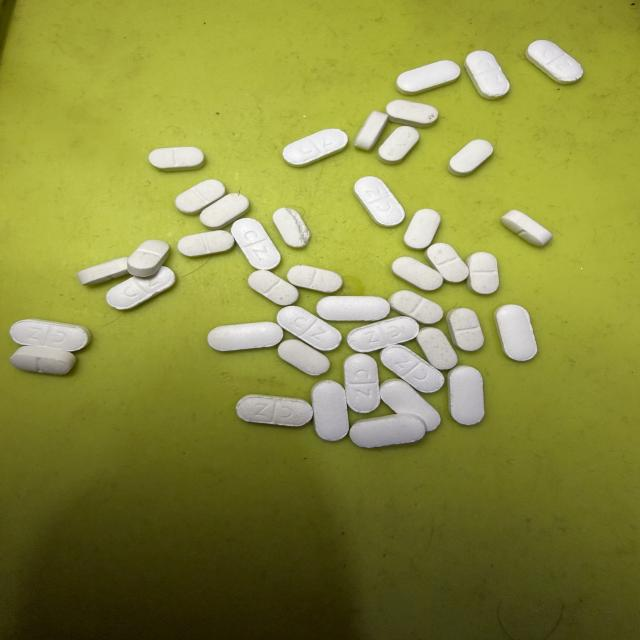pill: (380, 379, 440, 431), (381, 345, 444, 392), (107, 266, 175, 309), (277, 306, 341, 350), (10, 319, 91, 351), (347, 316, 419, 352), (526, 40, 583, 84), (231, 218, 280, 269), (350, 414, 425, 447), (283, 129, 348, 166), (355, 177, 404, 226), (236, 395, 313, 426), (495, 305, 537, 361), (311, 380, 348, 441), (208, 322, 283, 351), (448, 366, 484, 425), (344, 354, 380, 413), (465, 51, 509, 99), (397, 61, 460, 94), (316, 296, 390, 321), (10, 346, 76, 374), (501, 210, 552, 246), (248, 270, 298, 306), (278, 340, 329, 375), (389, 290, 443, 323), (200, 194, 249, 229), (175, 180, 225, 214), (392, 257, 443, 290), (417, 328, 457, 370), (425, 243, 468, 282), (446, 308, 484, 351), (449, 139, 493, 176), (378, 126, 419, 164), (178, 230, 235, 257), (128, 240, 169, 277), (287, 265, 342, 292), (76, 256, 128, 284), (273, 208, 310, 247), (404, 209, 440, 249), (466, 252, 499, 294), (387, 100, 438, 127), (149, 147, 204, 171), (355, 111, 388, 150)
